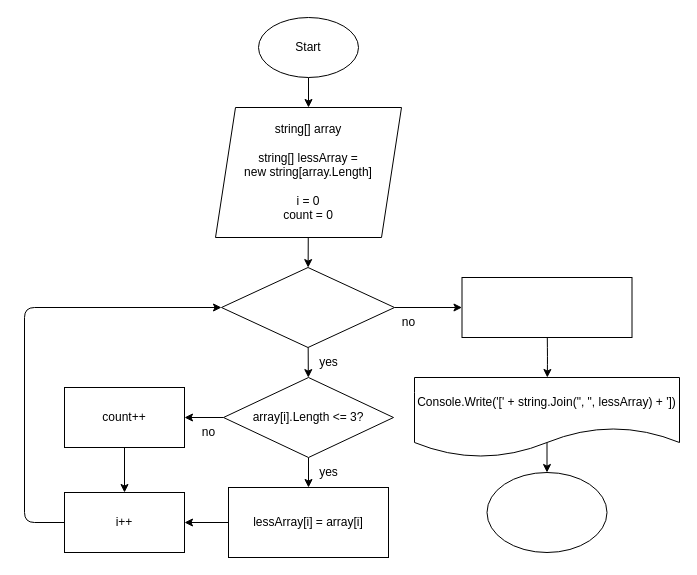
Image size: 697x575. Some labels were removed from this diagram. Each missing label, with the box of its shape:
Array.Resize(ref lessArray, lessArray.Length - count): (461, 276, 632, 338)
End.: (486, 472, 607, 552)
i < array.Length?: (220, 266, 394, 348)
